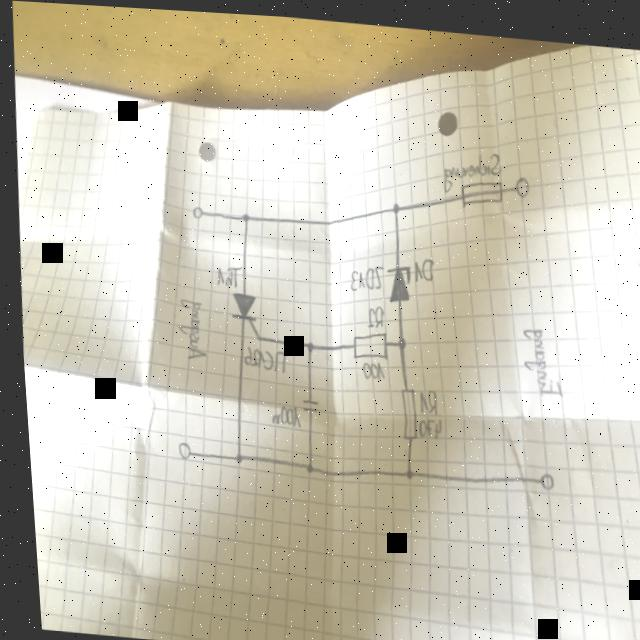capacitor: (294, 391, 314, 410)
diode: (380, 256, 409, 299)
junction: (387, 194, 398, 209), (391, 329, 402, 344), (297, 456, 307, 469), (236, 207, 246, 219), (300, 336, 309, 348), (227, 447, 236, 459), (398, 460, 406, 473)
resistor: (345, 321, 386, 358), (391, 375, 414, 437)
terminal: (510, 166, 529, 192), (169, 435, 186, 458), (531, 463, 549, 483), (187, 200, 201, 216)
text: (514, 318, 560, 389), (438, 140, 502, 190), (169, 293, 204, 359), (236, 340, 287, 370), (343, 255, 382, 288), (262, 398, 296, 423), (409, 408, 438, 434), (210, 258, 239, 284), (407, 248, 432, 278), (411, 381, 434, 412), (355, 352, 381, 375), (360, 296, 381, 324)
thyristor: (223, 286, 258, 336)
